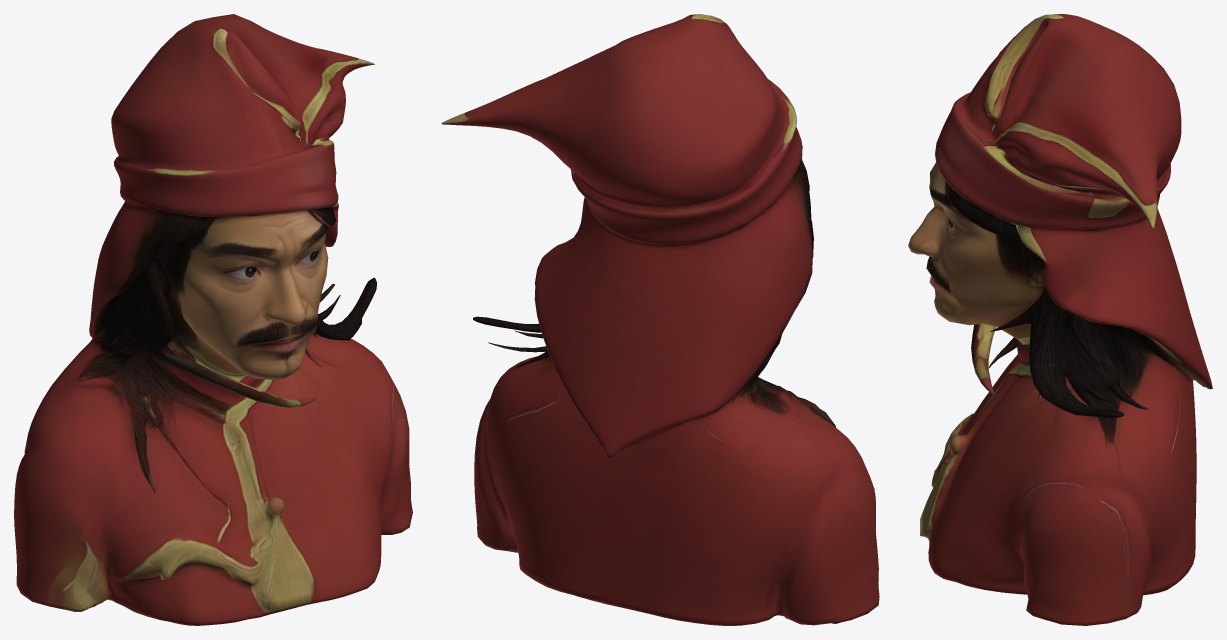
The model's file is sultanhasanudin.glb.
3 views of the same model, side by side, from view 1: azimuth 30°, elevation 25°; view 2: azimuth 150°, elevation 25°; view 3: azimuth 270°, elevation 25° (orthographic). The views are drawn at different scales.
Parts seen in each view (by area): view 1: model; view 2: model; view 3: model.
Boxes of the visible parts, left/top/right/bottom form: model: left=14, top=14, right=412, bottom=625; model: left=441, top=14, right=879, bottom=625; model: left=908, top=14, right=1212, bottom=625.
Bounding box in the file's own units: 1.3 × 1.71 × 0.9123.
Materials: 1 (1 with a texture image).
